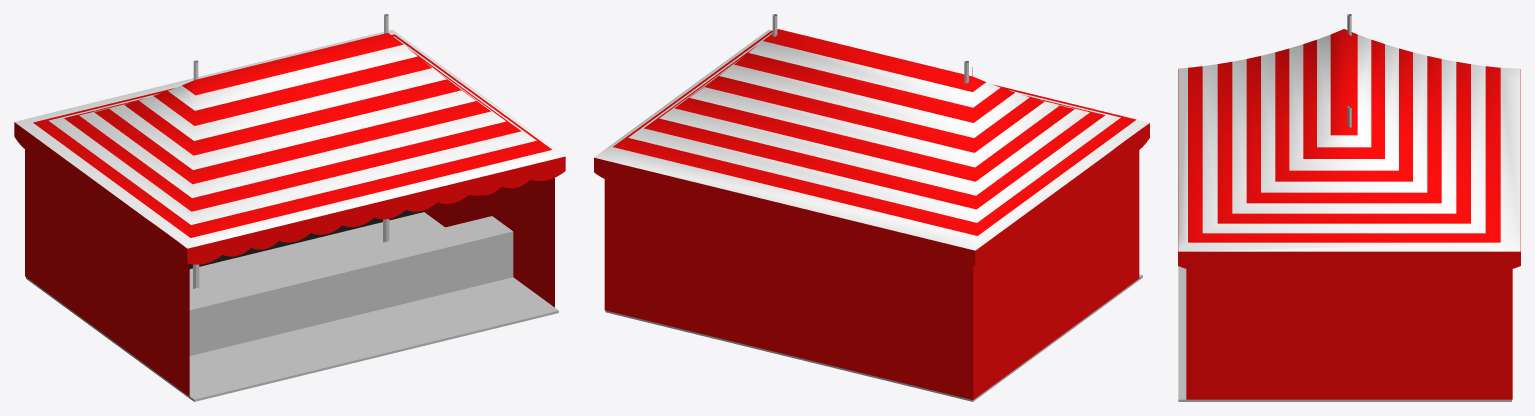
Rendered from DownTheClownEscenario.fbx.
3 views of the same model, side by side, from view 1: azimuth 30°, elevation 25°; view 2: azimuth 150°, elevation 25°; view 3: azimuth 270°, elevation 25° (orthographic).
Visible parts, largest first — view 1: Carpa1, Box007, Box002, Box001, [1584]; view 2: Carpa1, Box007; view 3: Carpa1, Box007.
Part boxes in pixels (x1=…): Carpa1: x1=14, y1=29, x2=565, y2=396; Box007: x1=26, y1=212, x2=558, y2=401; Box002: x1=189, y1=216, x2=513, y2=355; Box001: x1=189, y1=210, x2=424, y2=268; [1584]: x1=193, y1=14, x2=389, y2=288; Carpa1: x1=594, y1=29, x2=1149, y2=399; Box007: x1=605, y1=274, x2=1142, y2=401; Carpa1: x1=1178, y1=29, x2=1520, y2=399; Box007: x1=1178, y1=266, x2=1511, y2=401.
Size of the model in its own units: 519 by 335 by 411.
